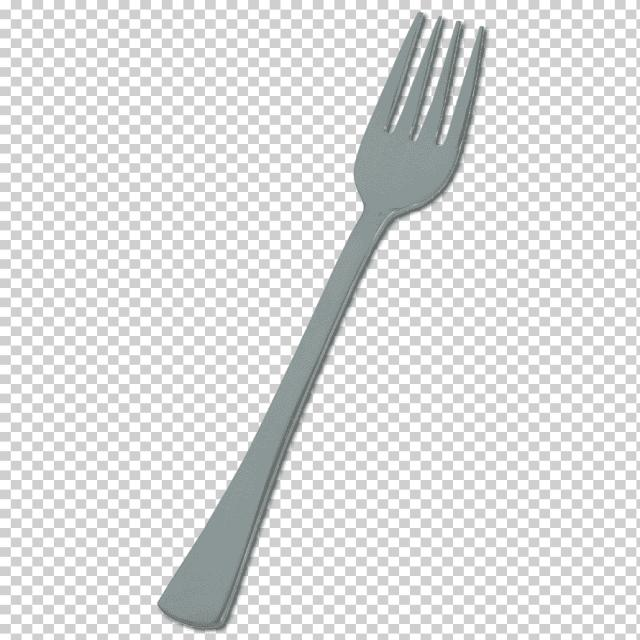Garpu: (120, 24, 518, 626)
